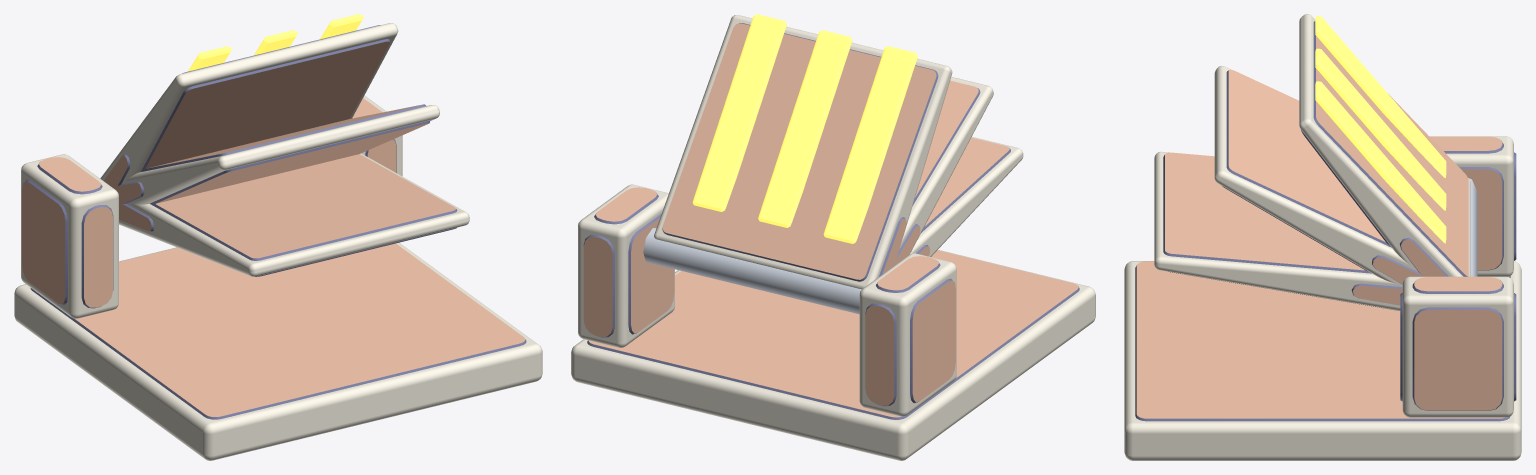
File: R4X_RampDeployer.fbx
3 views of the same model, side by side, from view 1: azimuth 30°, elevation 25°; view 2: azimuth 150°, elevation 25°; view 3: azimuth 270°, elevation 25° (orthographic). The views are drawn at different scales.
Visible parts, largest first — view 1: R4X_RampDeployer_Body; view 2: R4X_RampDeployer_Body; view 3: R4X_RampDeployer_Body.
Part boxes in pixels (x1,y1,x2,y2): R4X_RampDeployer_Body: [14, 14, 542, 460]; R4X_RampDeployer_Body: [571, 14, 1095, 460]; R4X_RampDeployer_Body: [1124, 14, 1521, 460].
Bounding box in the file's own units: 0.514 × 0.4662 × 0.514.
